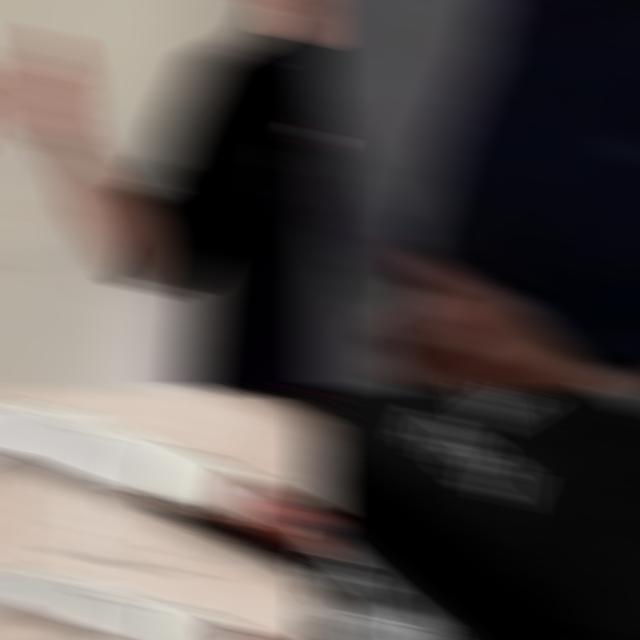Knife: (0, 403, 332, 587), (308, 19, 428, 326), (0, 568, 281, 640)
Knife_Handle: (308, 16, 616, 392), (12, 27, 117, 309)
